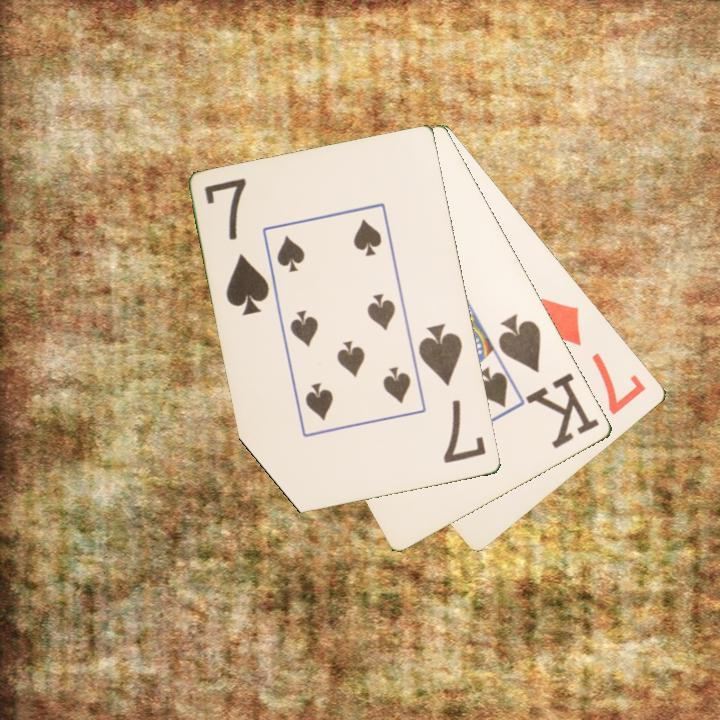7d: (537, 294, 650, 418)
7s: (415, 320, 490, 467), (201, 174, 273, 319)
Ks: (494, 309, 603, 452)
